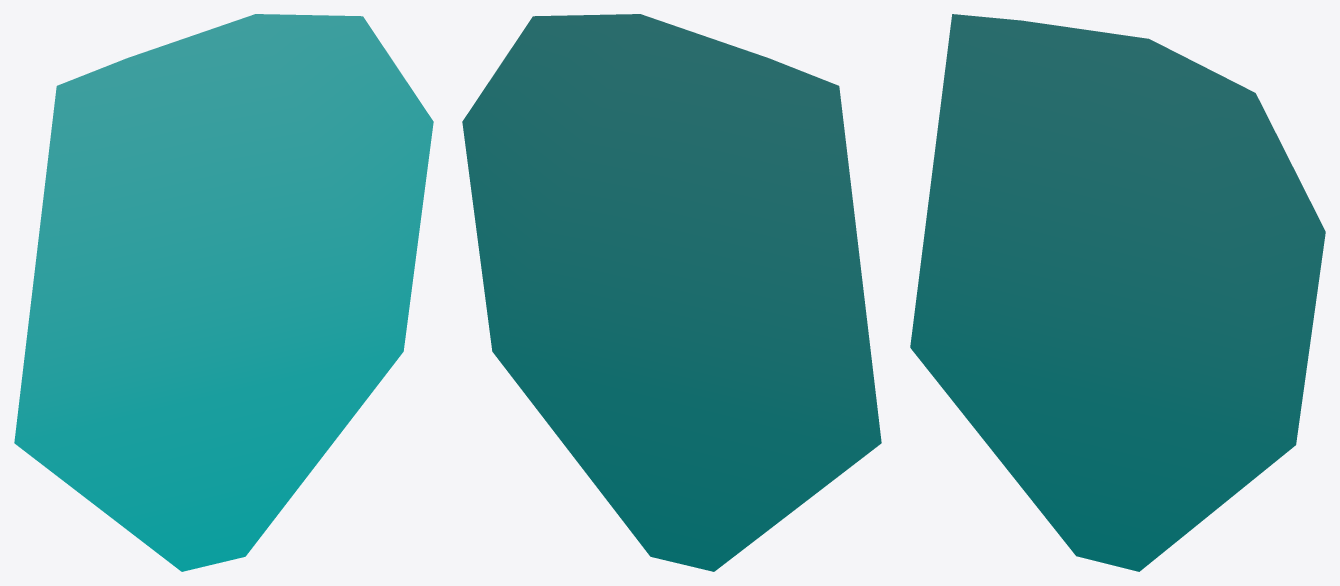
Rendered from Wild_Grass_sjliZ_Mid_sjliZ_VarA_LOD2.fbx.
3 renders of one model, left to right at view 1: azimuth 30°, elevation 25°; view 2: azimuth 150°, elevation 25°; view 3: azimuth 330°, elevation 25°, orthographic.
Visible parts, largest first — view 1: _5a87_VarA_LOD3; view 2: _5a87_VarA_LOD3; view 3: _5a87_VarA_LOD3.
Boxes of the visible parts, box(x1,y1,x2,y2) form: _5a87_VarA_LOD3: box(14, 14, 433, 571); _5a87_VarA_LOD3: box(462, 14, 881, 571); _5a87_VarA_LOD3: box(910, 14, 1325, 571).
Size of the model in its own units: 91.18 by 112 by 0.
